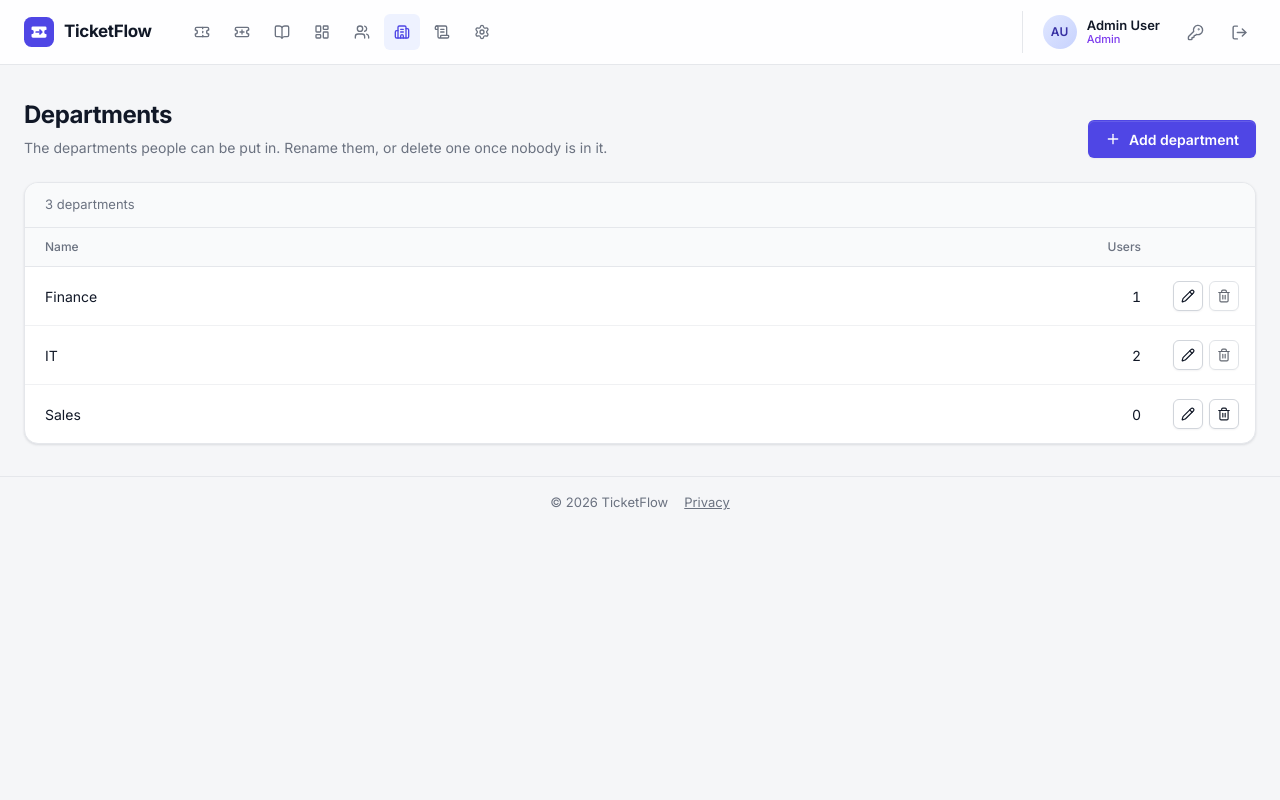
Departments page › rename › opens prefilled and renames the department in place
Expected: the table is shown, [25,228,1255,443]
Click the button named "Rename IT". click: click(1188, 355)
box: [1173,340,1203,370]
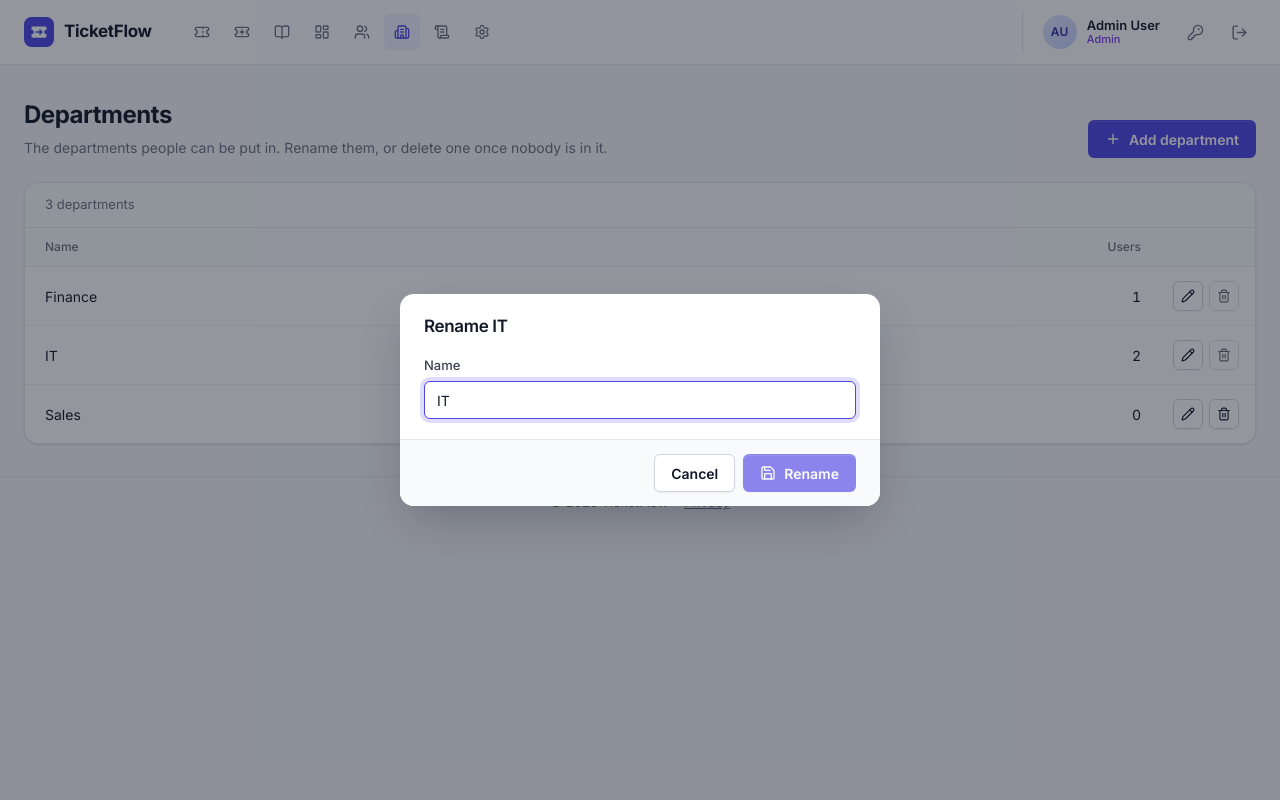
Now the field labelled "Name" holds "IT"
Now the button "Rename" is disabled, box [743,454,856,492]
Replace the text in the field labelled "Name" with "Operations". click: (640, 400)
box: [424,381,856,419]
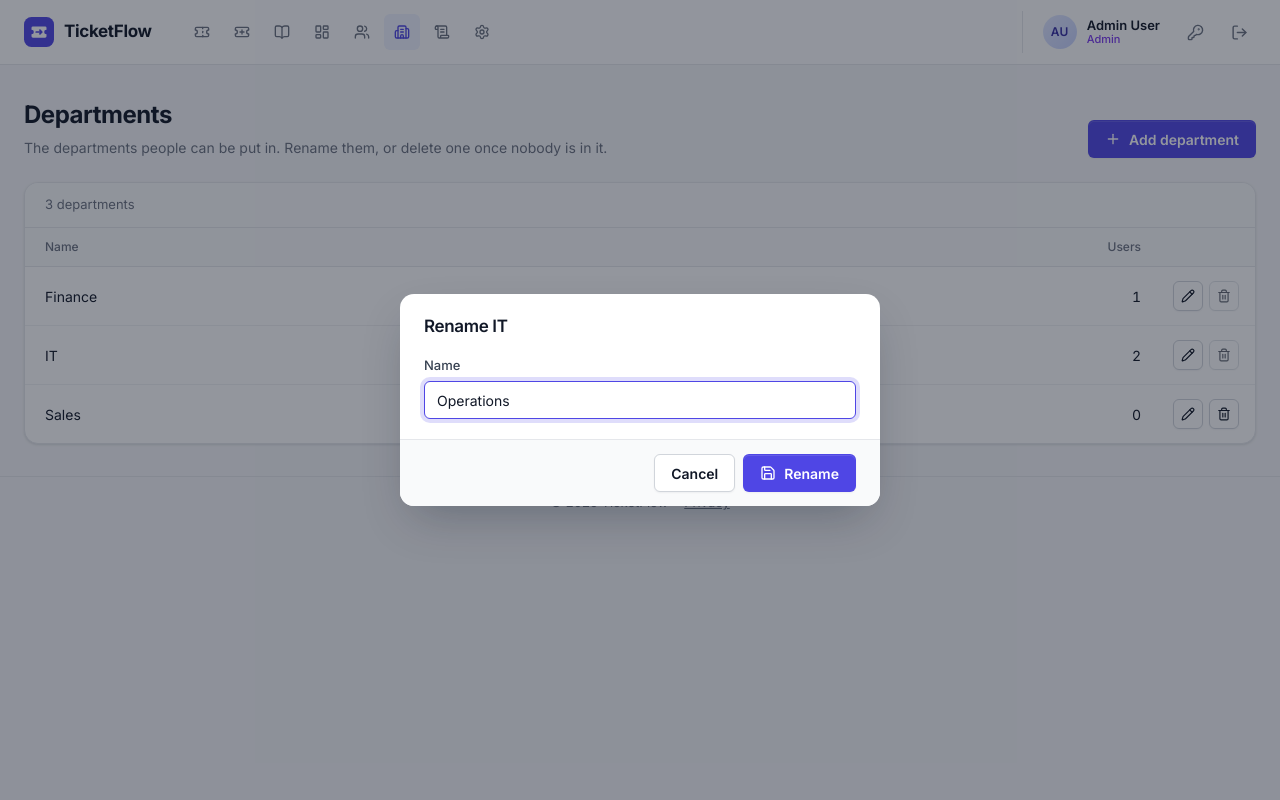
Click the button "Rename". click: click(800, 473)
box: [743,454,856,492]
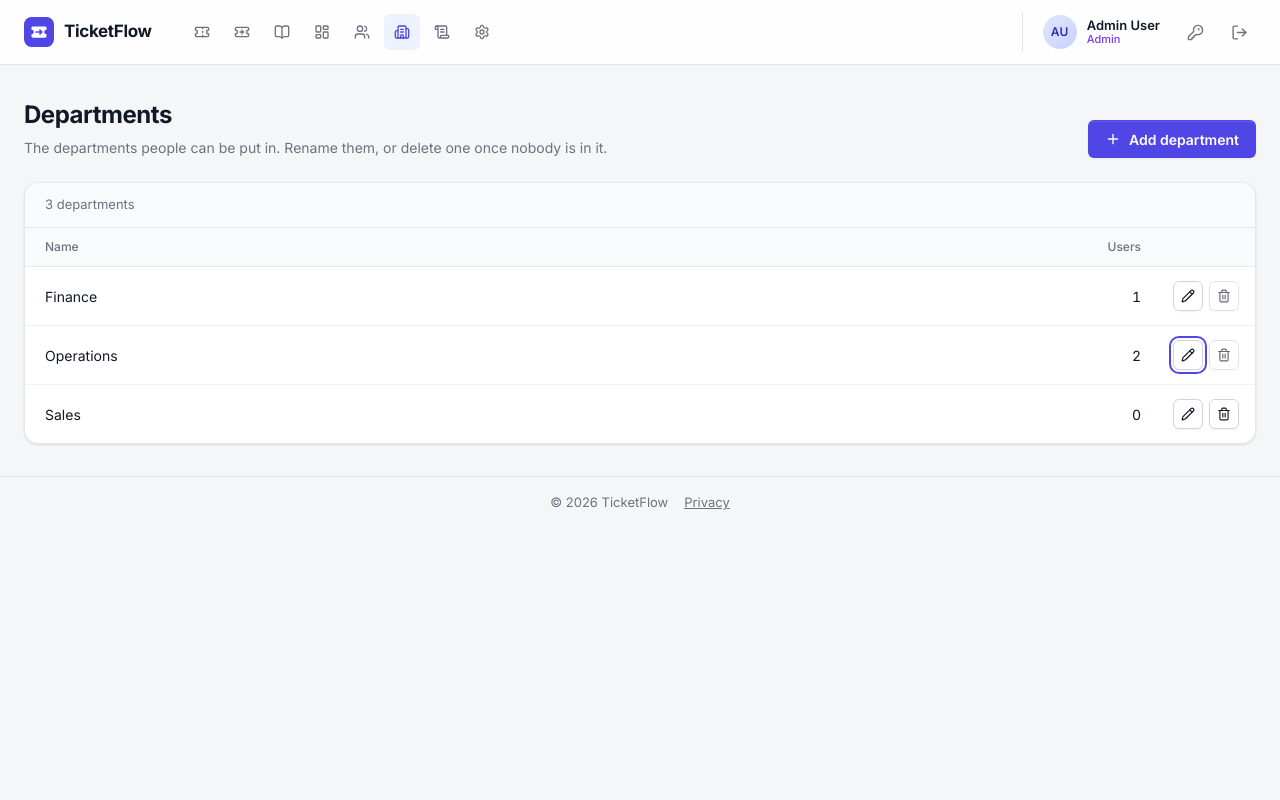
Now the dialog is gone
